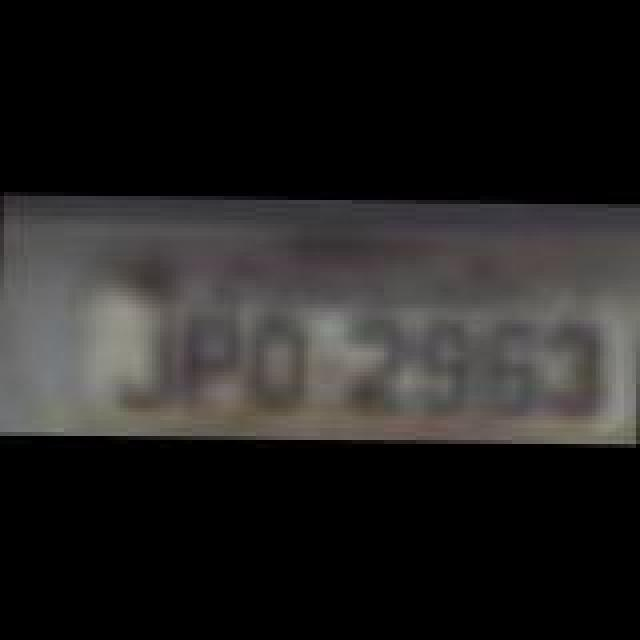2: (338, 316, 414, 420)
3: (544, 320, 608, 416)
6: (480, 320, 544, 416)
9: (412, 310, 484, 418)
J: (108, 312, 180, 408)
O: (244, 312, 316, 416)
P: (180, 310, 244, 410)
